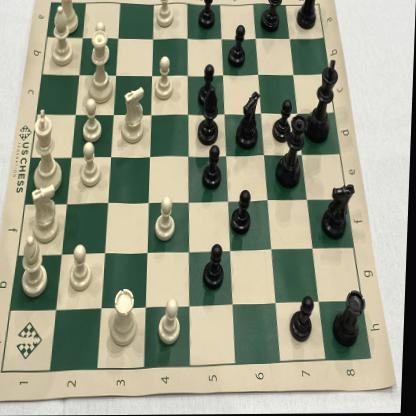black-bishop: (193, 86, 223, 149), (261, 0, 284, 34)
black-king: (306, 58, 341, 146)
black-knight: (323, 184, 357, 241), (236, 89, 262, 152)
black-pawn: (203, 241, 229, 293), (291, 293, 317, 343), (231, 187, 254, 238), (197, 63, 220, 111), (203, 144, 225, 191), (227, 24, 248, 70), (273, 98, 293, 145), (198, 0, 218, 31)
black-queen: (278, 114, 309, 189)
black-rook: (333, 288, 369, 349), (295, 0, 321, 33)
white-bishop: (20, 236, 52, 299), (49, 6, 77, 67)
white-king: (32, 108, 67, 195)
white-knight: (28, 184, 64, 243), (120, 85, 148, 146)
white-pawn: (158, 296, 185, 348), (154, 194, 179, 244), (70, 244, 95, 293), (79, 142, 105, 188), (82, 99, 106, 144), (154, 54, 176, 101), (92, 21, 112, 63), (154, 0, 176, 31)
white-queen: (84, 31, 118, 105)
white-rook: (110, 286, 142, 349), (57, 0, 80, 38)
